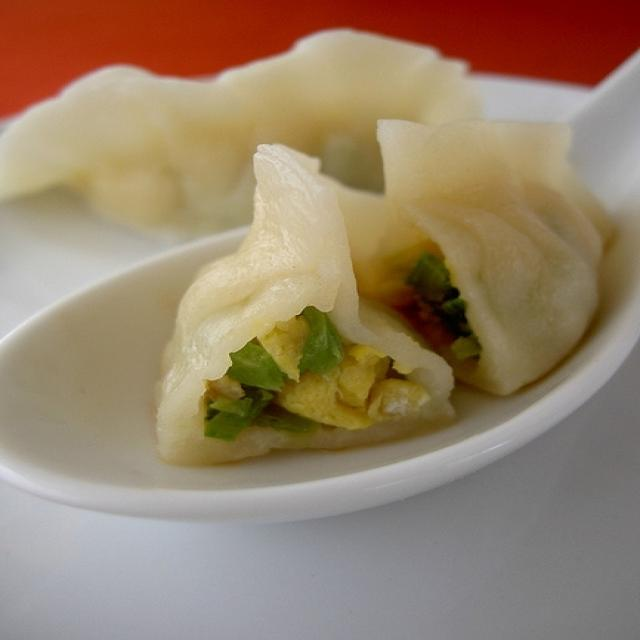带馅早点: (11, 34, 630, 542)
